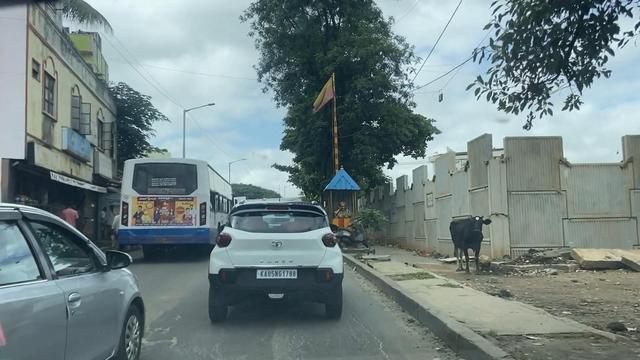HMV: (117, 161, 204, 251)
LMV: (215, 209, 338, 317)
RoadDamages: (356, 325, 405, 358), (263, 333, 314, 360), (152, 321, 186, 360)
